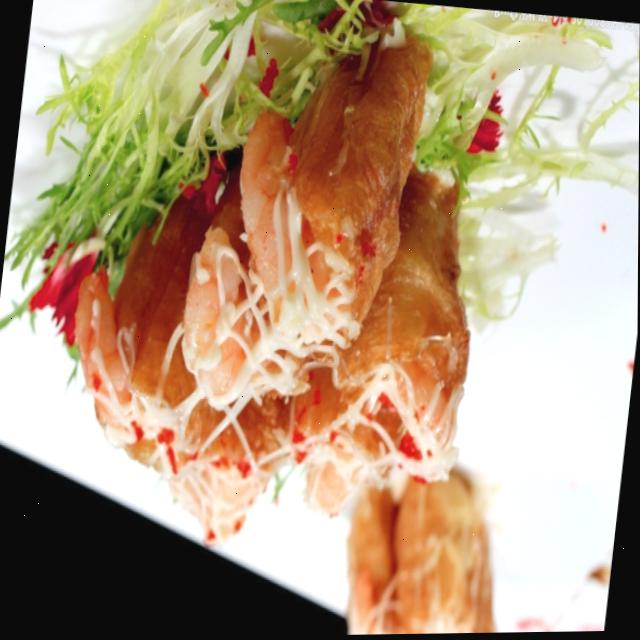炸货点心: (19, 0, 566, 597)
